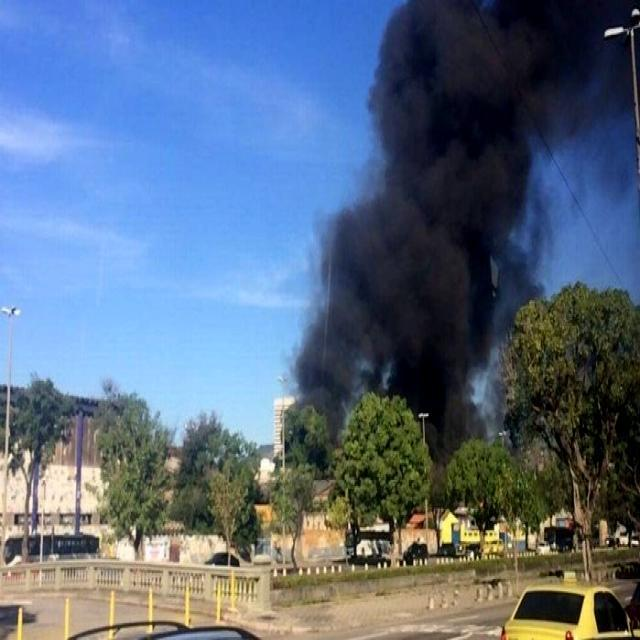Smoke: (304, 0, 632, 423)
